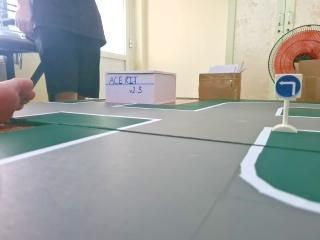left: (270, 69, 304, 103)
